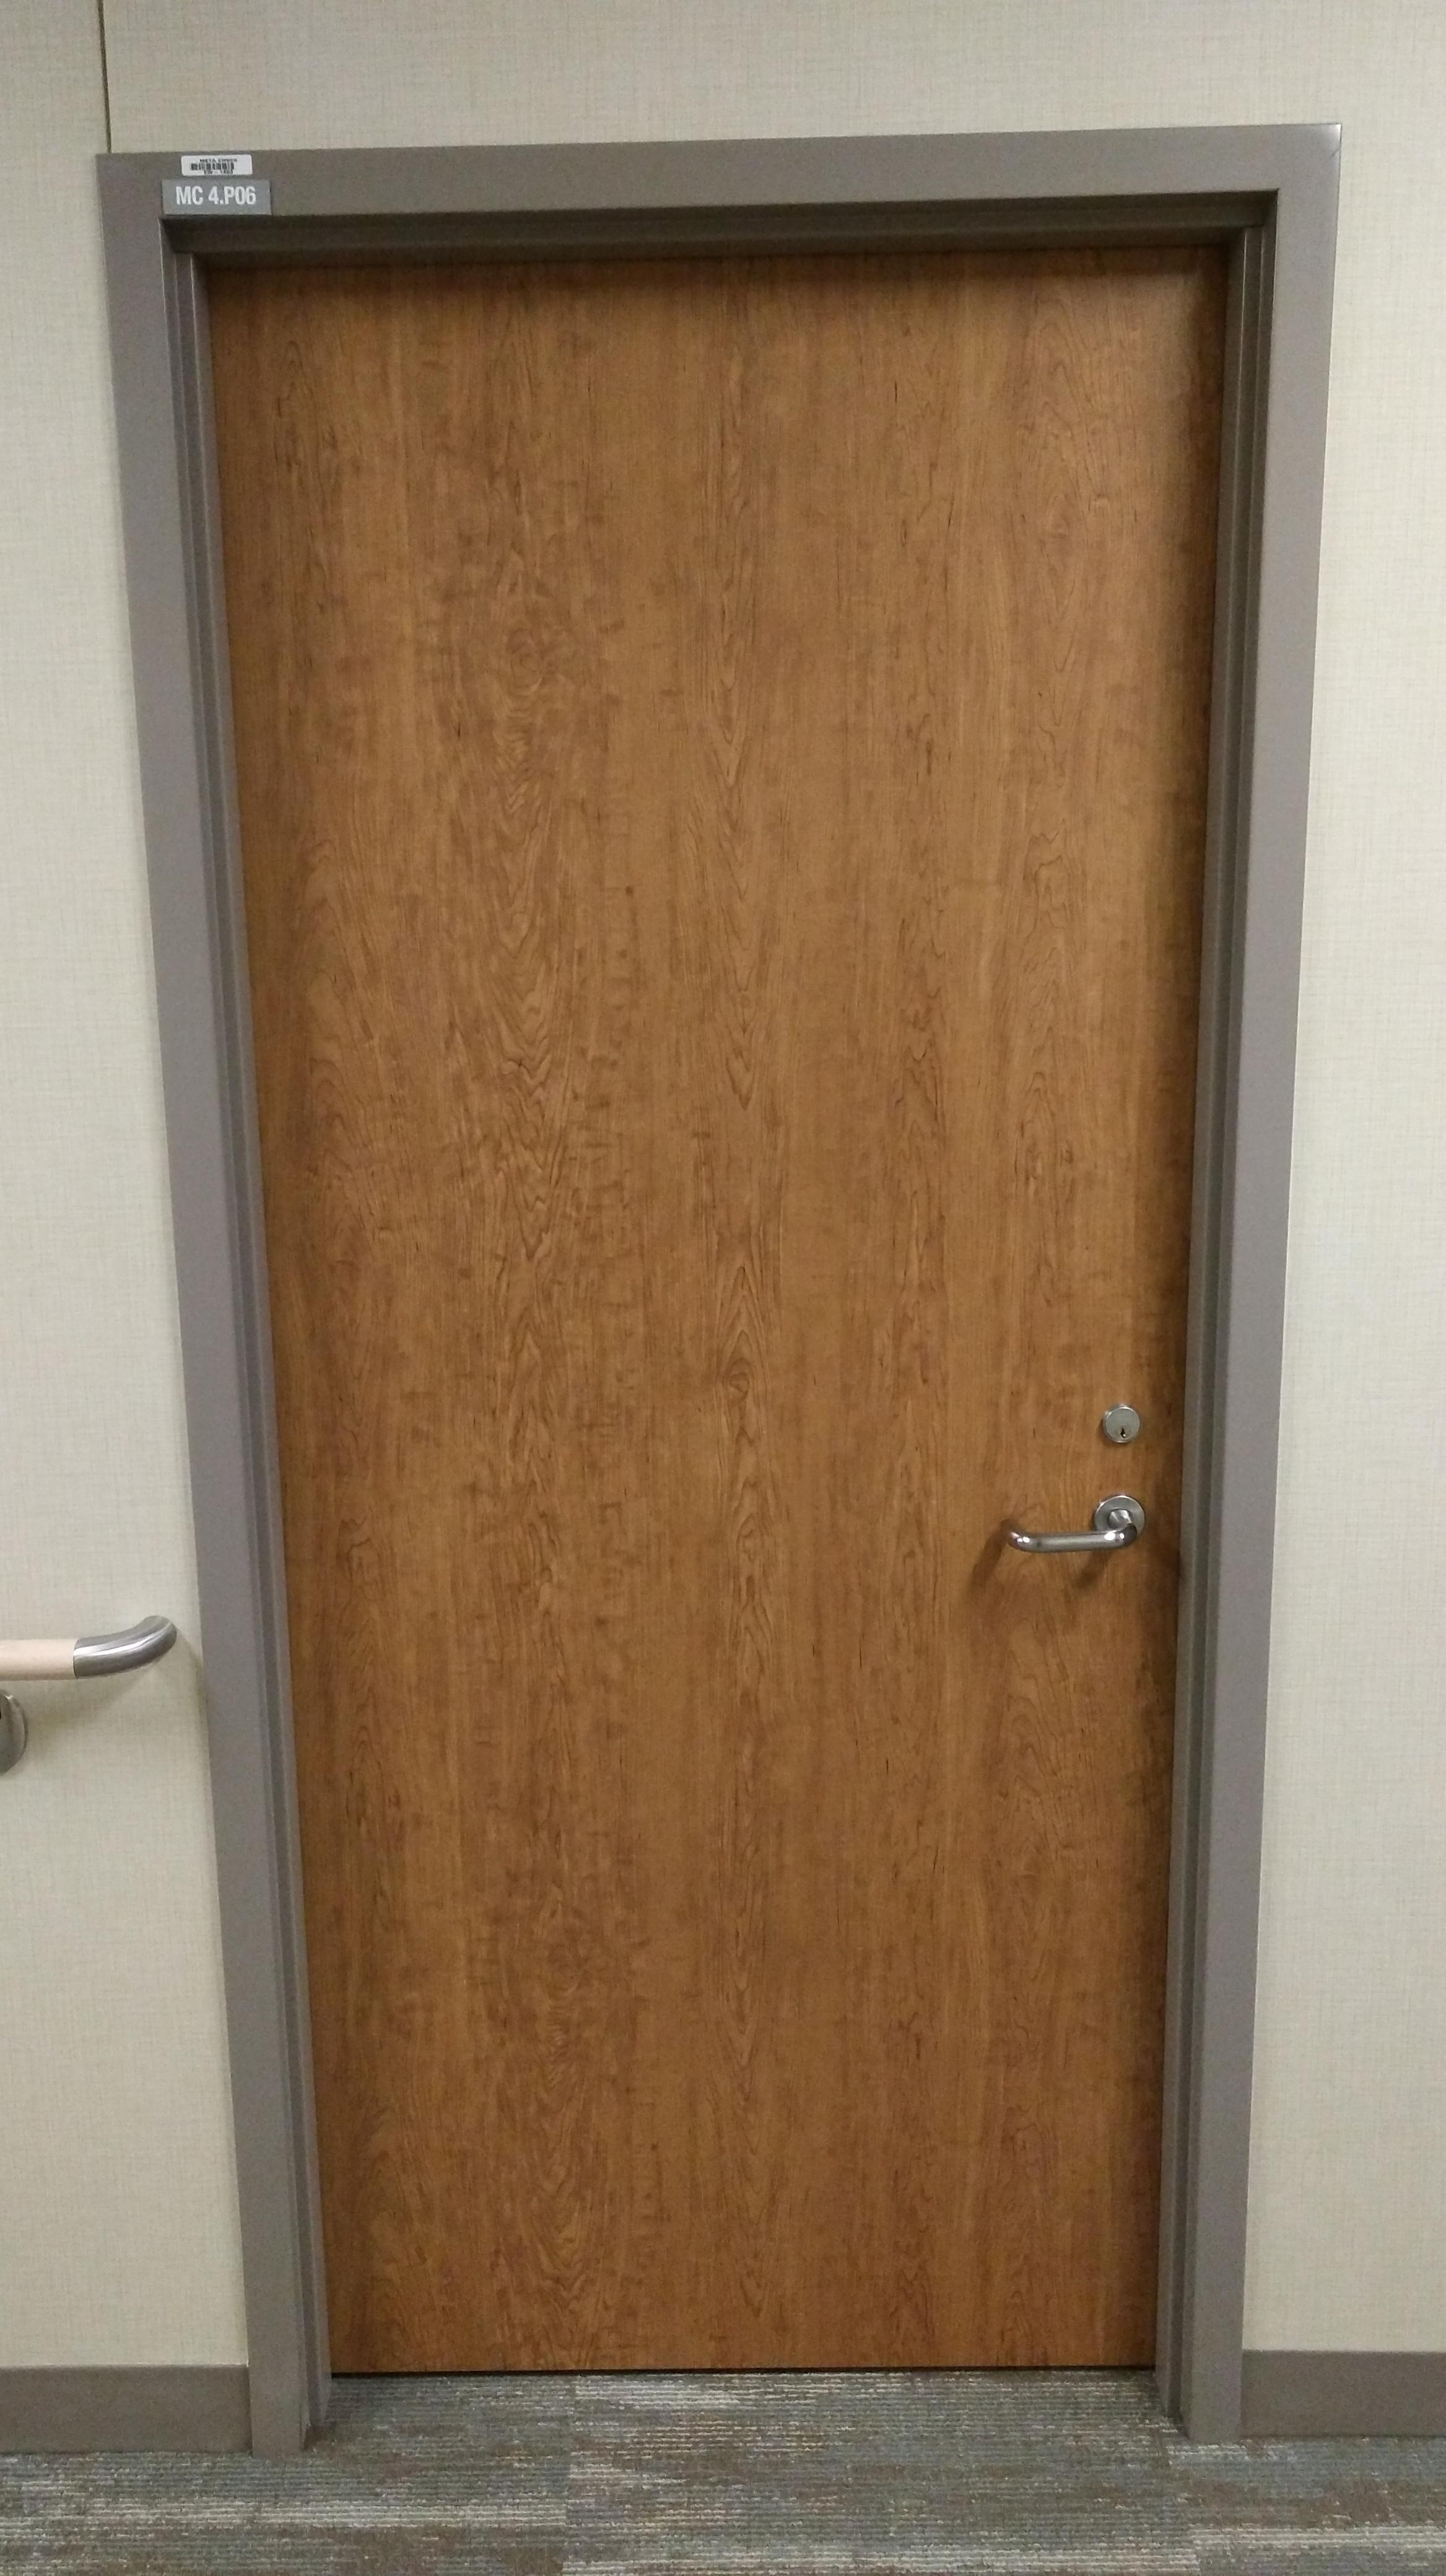door: (126, 152, 1218, 2396)
